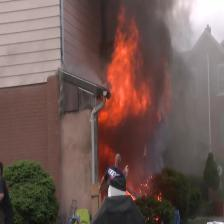fire: (90, 0, 175, 224)
